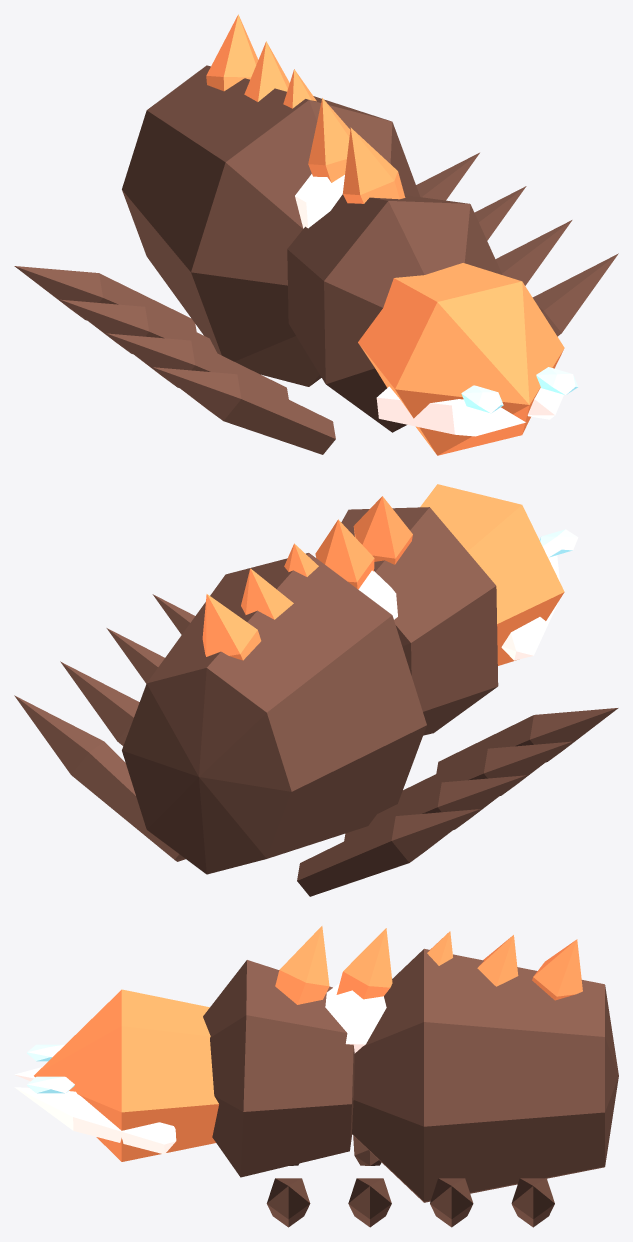
The model's file is deep-fracture-creature-Burrower-fire.glb.
3 renders of one model, top to bottom at view 1: azimuth 30°, elevation 25°; view 2: azimuth 150°, elevation 25°; view 3: azimuth 270°, elevation 25°, orthographic. The views are drawn at different scales.
Parts seen in each view (by area): view 1: armored-abdomen, armored-thorax, drill-head, dig-leg-l3, dig-leg-l2, dig-leg-l0, drill-left, dig-leg-l1, back-plate4, dig-leg-r3, back-plate3, back-plate0 (+9 smaller); view 2: armored-abdomen, armored-thorax, drill-head, dig-leg-l0, dig-leg-r0, dig-leg-l3, dig-leg-l2, dig-leg-l1, back-plate4, back-plate0, dig-leg-r1, back-plate3 (+7 smaller); view 3: armored-abdomen, armored-thorax, drill-head, drill-right, back-plate4, back-plate3, armor-core, back-plate0, dig-leg-r0, dig-leg-r1, dig-leg-r2, dig-leg-r3 (+5 smaller).
Part boxes in pixels (left/top/right/bottom): armored-abdomen: left=122, top=65, right=420, bottom=386; armored-thorax: left=287, top=194, right=502, bottom=432; drill-head: left=358, top=263, right=564, bottom=455; dig-leg-l3: left=153, top=367, right=335, bottom=454; dig-leg-l2: left=106, top=333, right=288, bottom=399; dig-leg-l0: left=14, top=266, right=196, bottom=331; drill-left: left=376, top=386, right=525, bottom=436; dig-leg-l1: left=60, top=299, right=216, bottom=353; back-plate4: left=342, top=127, right=405, bottom=203; dig-leg-r3: left=532, top=253, right=618, bottom=336; back-plate3: left=308, top=98, right=350, bottom=182; back-plate0: left=206, top=14, right=258, bottom=91; armored-abdomen: left=122, top=553, right=426, bottom=874; armored-thorax: left=341, top=507, right=498, bottom=735; drill-head: left=420, top=484, right=564, bottom=665; dig-leg-l0: left=297, top=809, right=480, bottom=896; dig-leg-r0: left=14, top=695, right=185, bottom=861; dig-leg-l3: left=436, top=708, right=618, bottom=773; dig-leg-l2: left=398, top=741, right=572, bottom=803; dig-leg-l1: left=344, top=775, right=526, bottom=841; back-plate4: left=353, top=496, right=412, bottom=564; back-plate0: left=202, top=594, right=261, bottom=660; dig-leg-r1: left=60, top=661, right=139, bottom=745; back-plate3: left=315, top=519, right=374, bottom=589; armored-abdomen: left=352, top=948, right=618, bottom=1202; armored-thorax: left=203, top=960, right=354, bottom=1177; drill-head: left=34, top=989, right=218, bottom=1161; drill-right: left=14, top=1087, right=176, bottom=1154; back-plate4: left=275, top=926, right=329, bottom=1004; back-plate3: left=336, top=928, right=392, bottom=999; armor-core: left=325, top=983, right=386, bottom=1053; back-plate0: left=532, top=939, right=582, bottom=1000; dig-leg-r0: left=511, top=1178, right=554, bottom=1227; dig-leg-r1: left=430, top=1178, right=473, bottom=1227; dig-leg-r2: left=348, top=1178, right=391, bottom=1227; dig-leg-r3: left=266, top=1178, right=310, bottom=1227.
Bounding box in the file's own units: 1.87 × 1.18 × 2.37.
